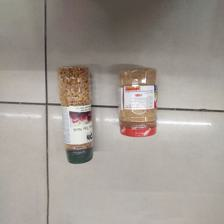Hao_hao: (116, 67, 161, 140)
TayNinh_green: (57, 64, 97, 164)
